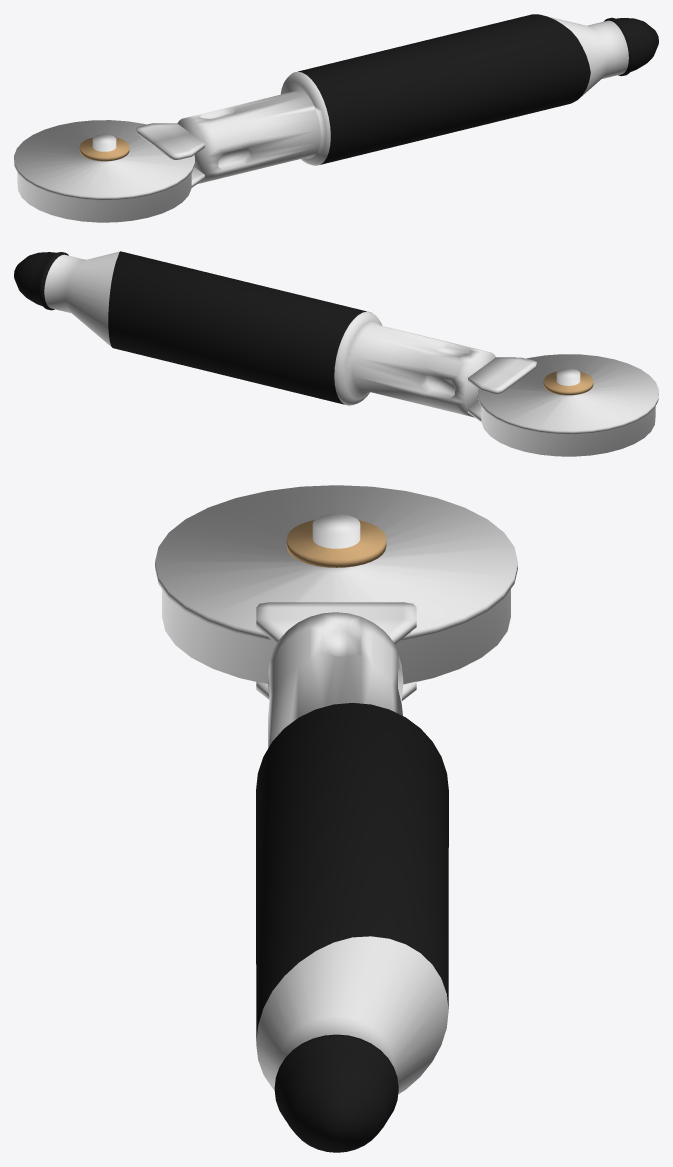
The model's file is GAMMA_low.dae.
3 views of the same model, one above another, from view 1: azimuth 30°, elevation 25°; view 2: azimuth 150°, elevation 25°; view 3: azimuth 270°, elevation 25° (orthographic). The views are drawn at different scales.
Parts seen in each view (by area): view 1: Cylinder; view 2: Cylinder; view 3: Cylinder.
Boxes of the visible parts, <box> form: Cylinder: <box>14,14,658,222</box>; Cylinder: <box>14,251,658,456</box>; Cylinder: <box>155,485,517,1152</box>.
Bounding box in the file's own units: 0.3829 × 0.0951 × 0.0506.
